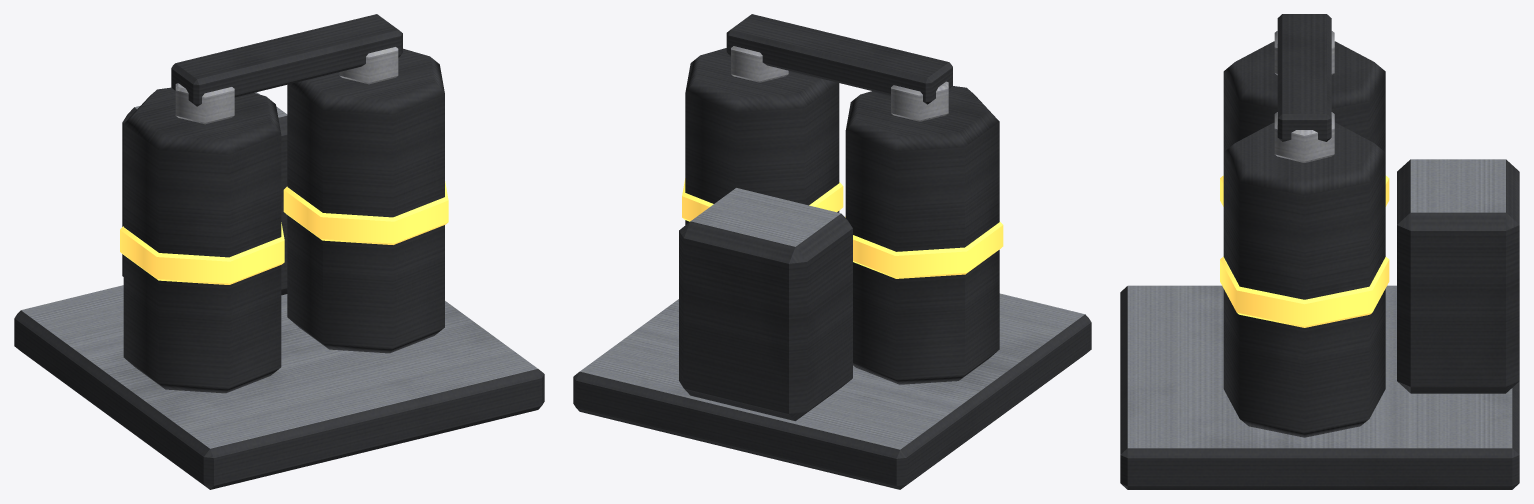
File: R4X_Battery_LOD1.glb
The picture shows the model from 3 angles, left to right: view 1: azimuth 30°, elevation 25°; view 2: azimuth 150°, elevation 25°; view 3: azimuth 270°, elevation 25°; orthographic projection. The views are drawn at different scales.
Parts seen in each view (by area): view 1: R4X_Battery_LOD1; view 2: R4X_Battery_LOD1; view 3: R4X_Battery_LOD1.
Part boxes in pixels (box(x1,y1,x2,y2)): R4X_Battery_LOD1: box(14, 14, 544, 489); R4X_Battery_LOD1: box(573, 14, 1091, 489); R4X_Battery_LOD1: box(1120, 14, 1519, 489).
Size of the model in its own units: 0.52 by 0.495 by 0.52.
4 materials, 3 textured.
